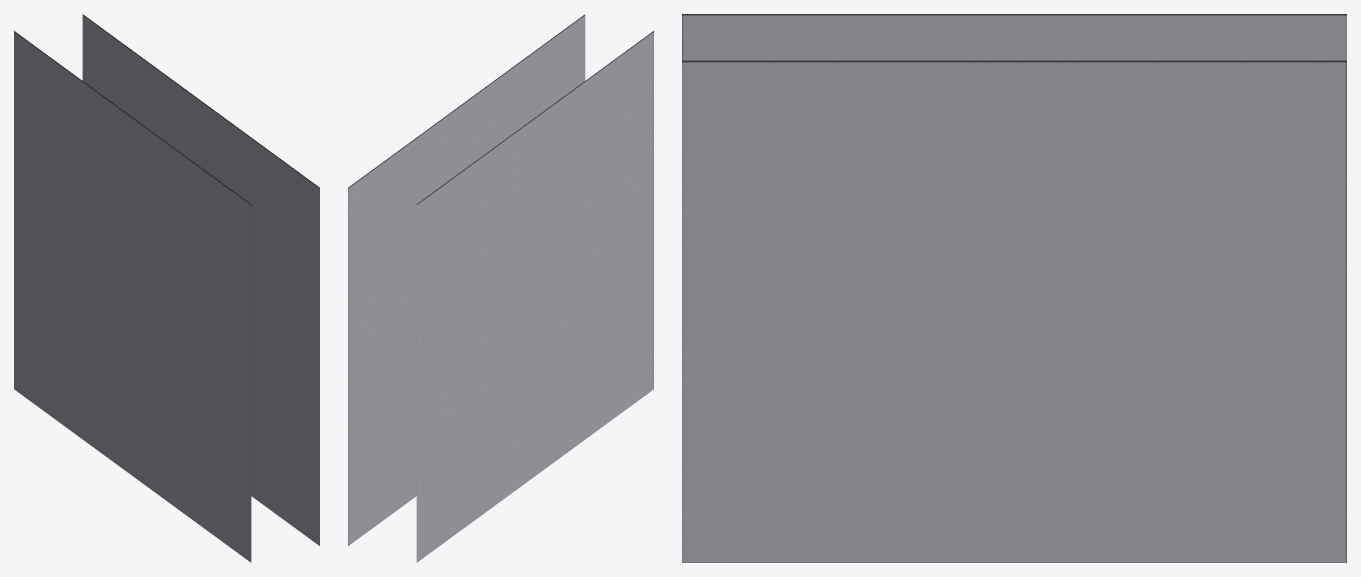
The model's file is Wall_Roof_Half_05.FBX.
3 views of the same model, side by side, from view 1: azimuth 30°, elevation 25°; view 2: azimuth 150°, elevation 25°; view 3: azimuth 270°, elevation 25° (orthographic). The views are drawn at different scales.
Visible parts, largest first — view 1: Wall_Roof_Half_05; view 2: Wall_Roof_Half_05; view 3: Wall_Roof_Half_05.
Boxes of the visible parts, left/top/right/bottom form: Wall_Roof_Half_05: left=14, top=14, right=319, bottom=562; Wall_Roof_Half_05: left=348, top=14, right=653, bottom=562; Wall_Roof_Half_05: left=682, top=14, right=1346, bottom=562.
Bounding box in the file's own units: 1 × 5 × 6.
